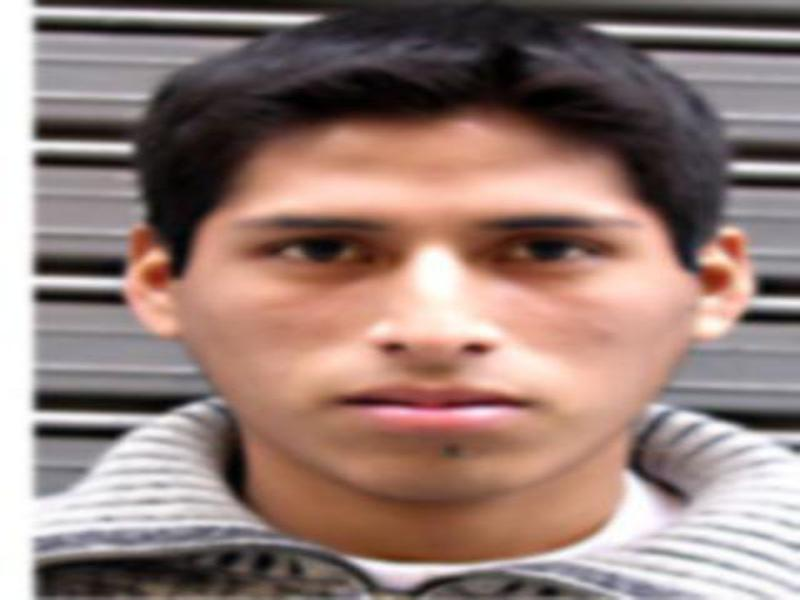without_mask: (191, 119, 691, 499)
